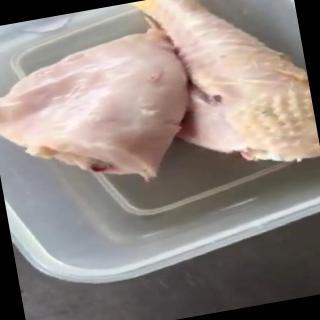Ayam: (1, 10, 204, 207), (128, 1, 320, 187)
